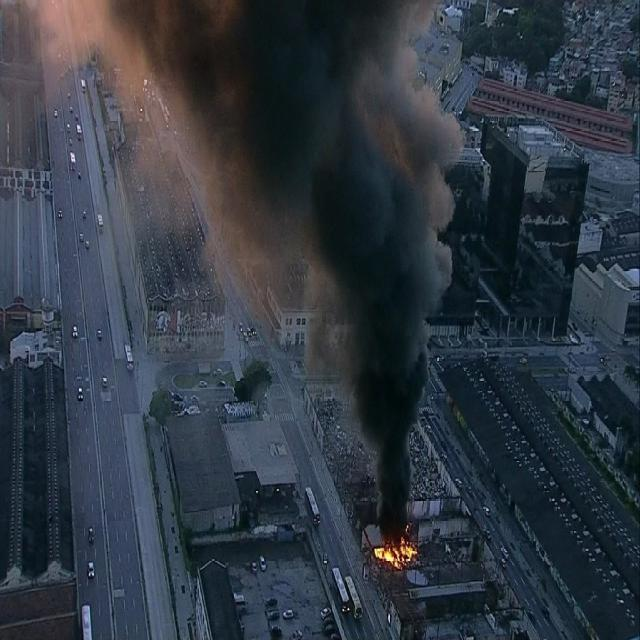Fire: (374, 533, 418, 570)
Smoke: (39, 1, 464, 536)
